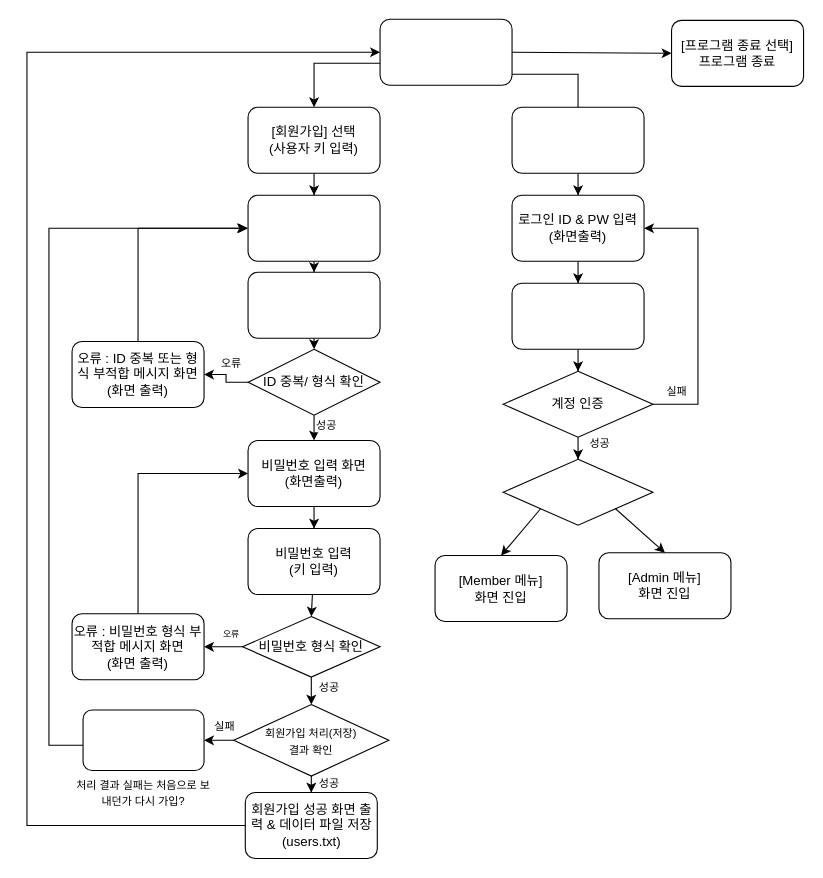
Some shapes in this 823 by 878 pixel diagram are drawn without their labels. The centre of each missing label's shape, as x and y in pixels:
[로그인] 선택 (사용자 키 입력): the point at 577,139
ID & PW 입력 (키입력): the point at 577,315
계정 Role 확인: the point at 577,491
비로그인 메뉴 화면 (화면출력): the point at 445,51
오류 메시지 및 재입력 화면 (화면출력): the point at 143,740
회원가입 ID 입력 화면 (키 입력): the point at 313,304
회원가입 ID 입력 화면 (화면출력): the point at 313,227
